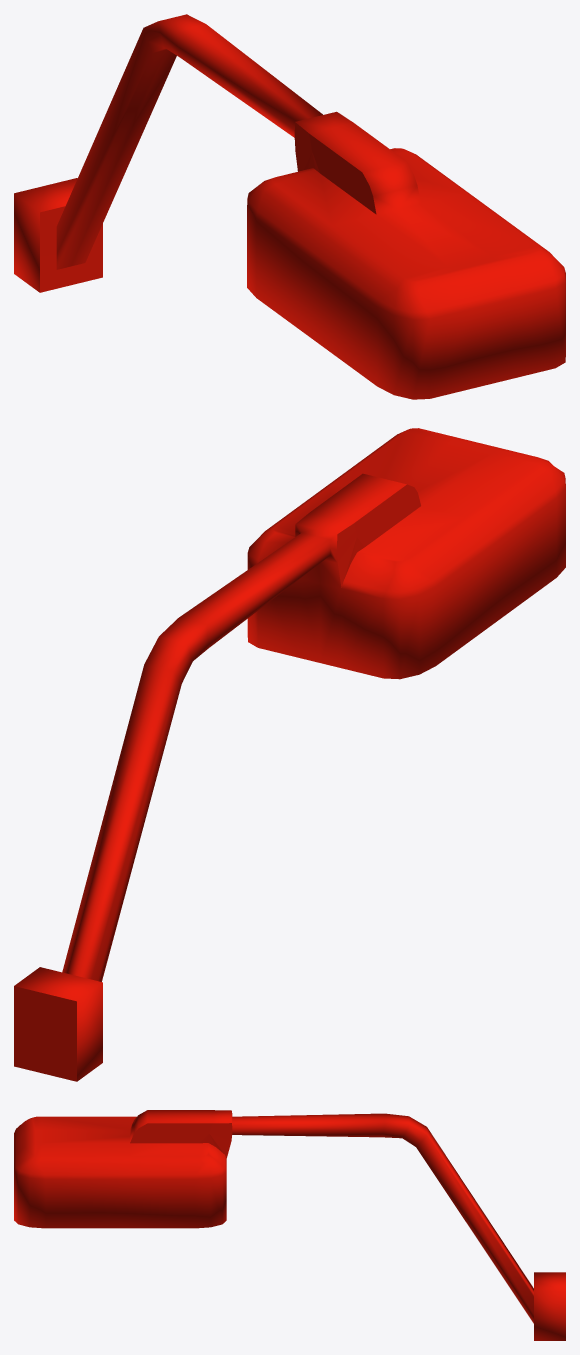
The model's file is Lamp.fbx.
The picture shows the model from 3 angles, top to bottom: view 1: azimuth 30°, elevation 25°; view 2: azimuth 150°, elevation 25°; view 3: azimuth 270°, elevation 25°; orthographic projection. The views are drawn at different scales.
Visible parts, largest first — view 1: Cube; view 2: Cube; view 3: Cube.
Part boxes in pixels (x1,y1,x2,y2): Cube: [14, 14, 565, 399]; Cube: [14, 428, 565, 1081]; Cube: [14, 1110, 565, 1340].
Size of the model in its own units: 19.19 by 35.56 by 82.97.
